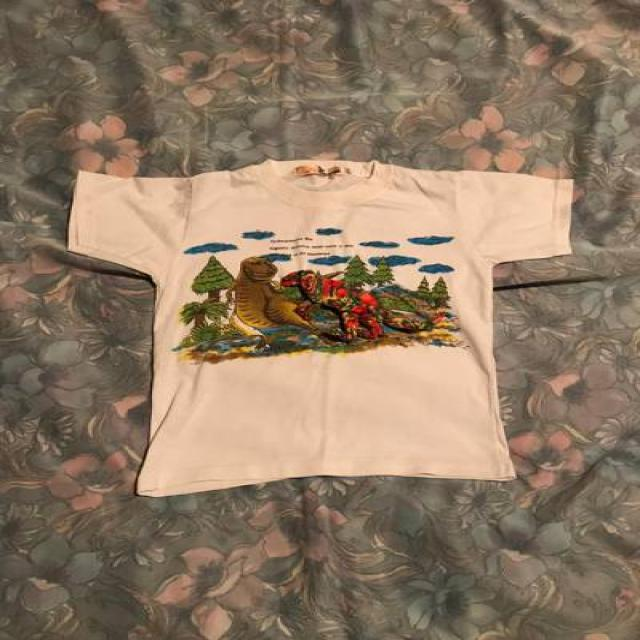shirt: (66, 158, 573, 495)
